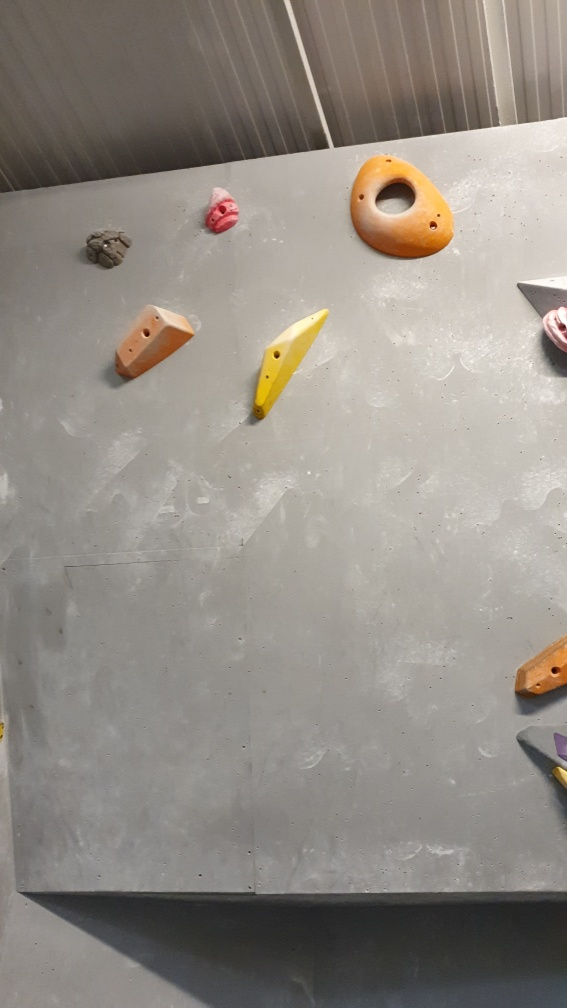Jug: (83, 224, 136, 270), (205, 188, 239, 238)
Pinch: (254, 309, 333, 424), (111, 300, 195, 383), (513, 630, 567, 703)
Pocket: (346, 153, 458, 261)
